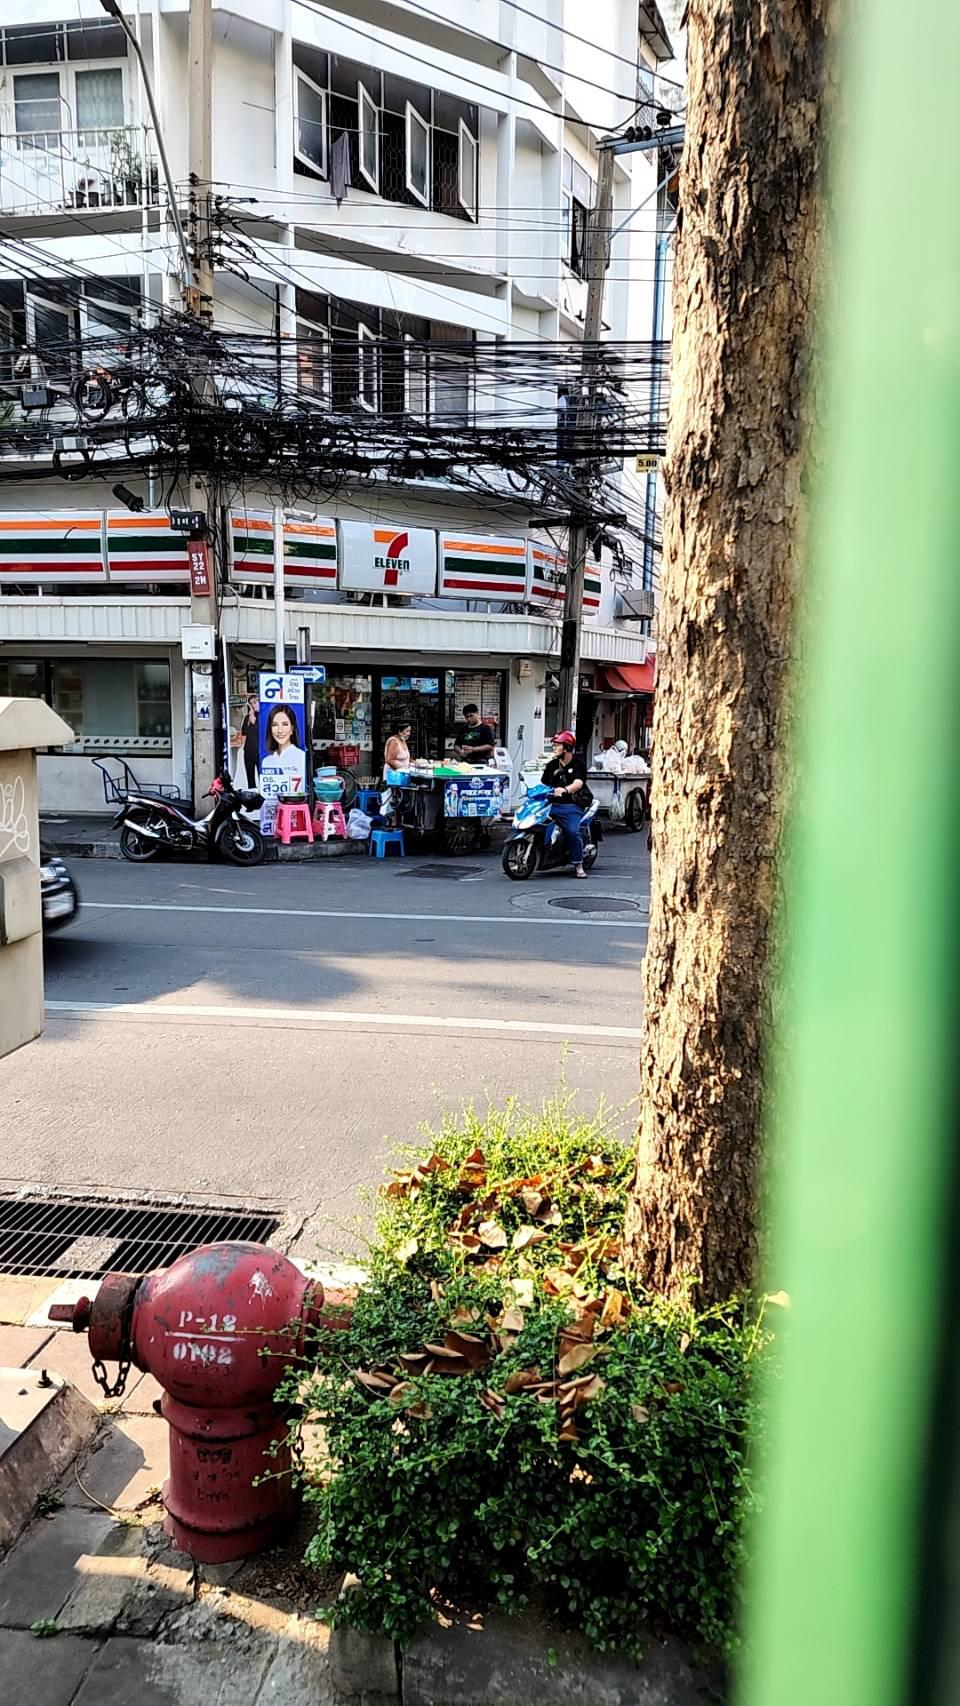Banner: (256, 677, 319, 813)
